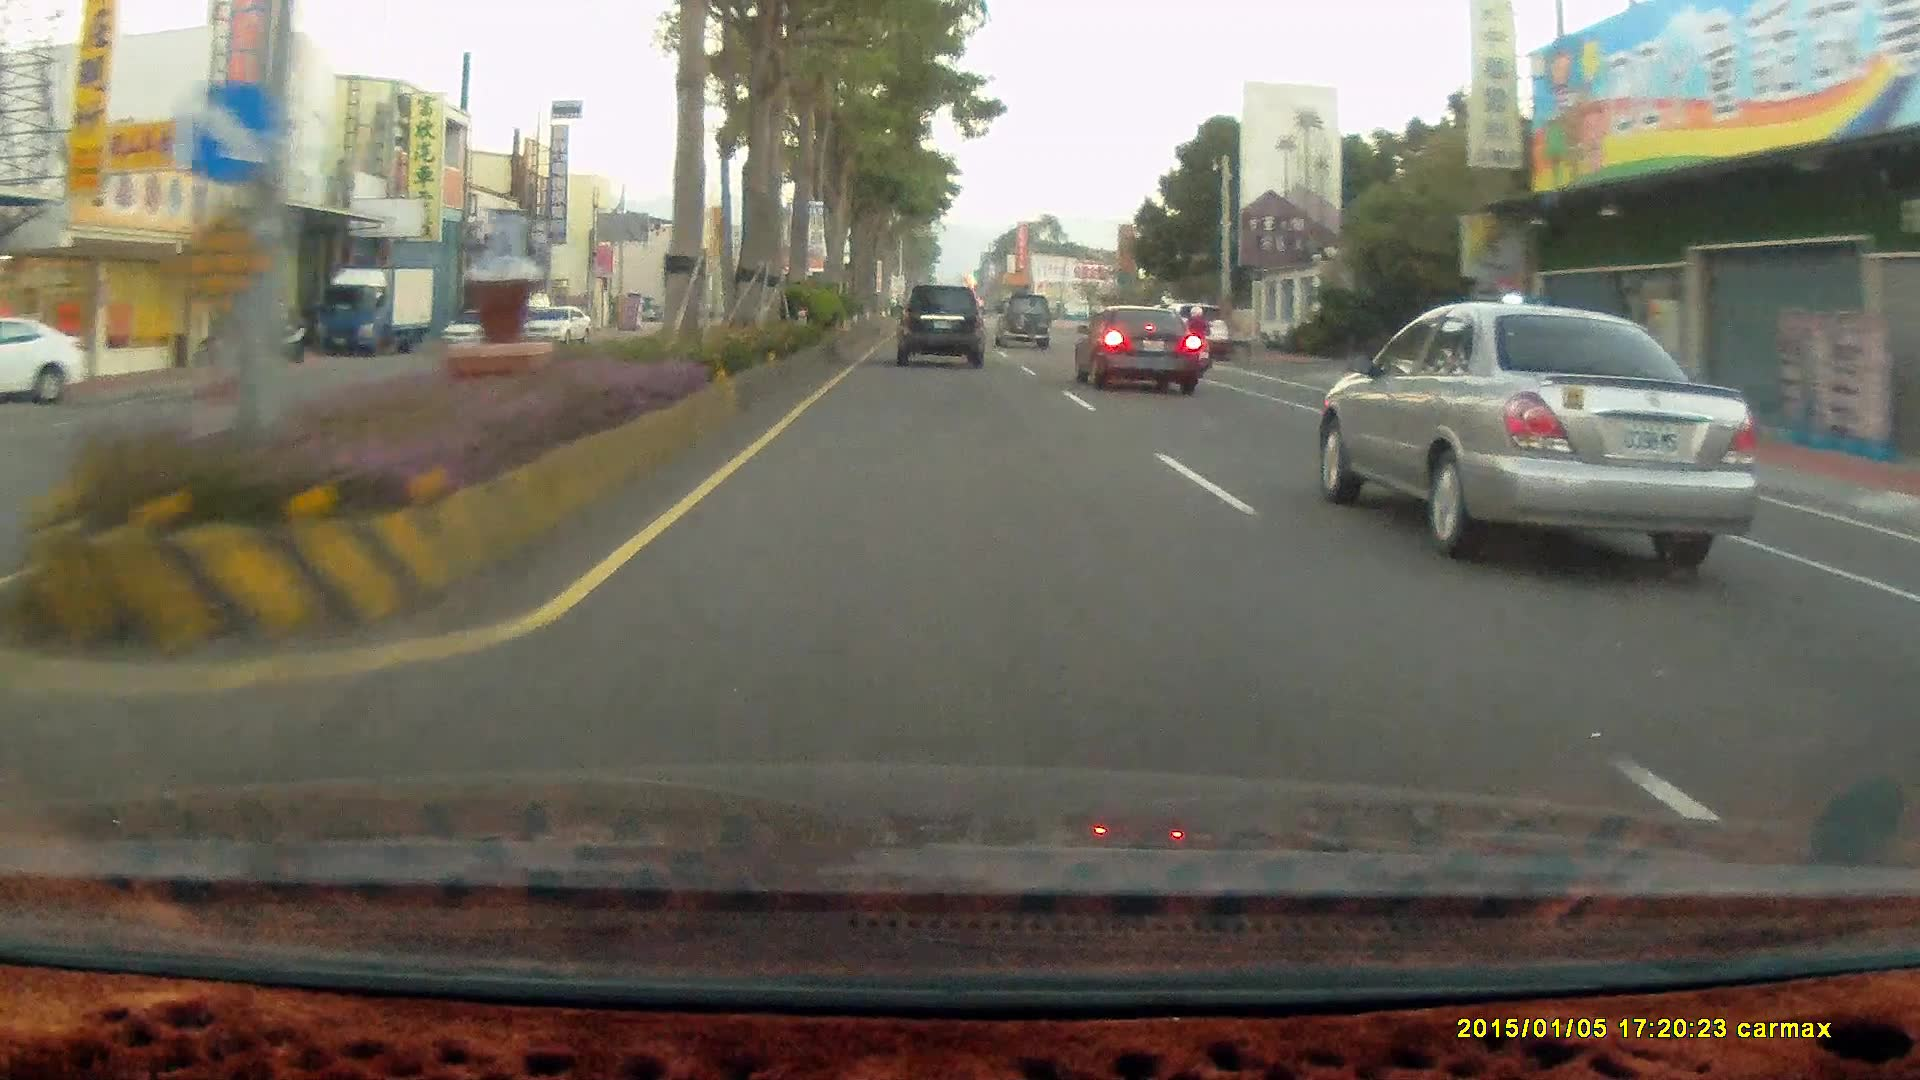rider: (1171, 302, 1216, 377)
vehicle: (1303, 298, 1752, 560), (1070, 302, 1200, 394), (1073, 306, 1201, 394), (314, 262, 436, 354), (316, 266, 438, 358), (1, 315, 94, 405), (893, 281, 988, 368), (895, 284, 981, 368), (441, 307, 528, 357), (438, 305, 524, 353), (992, 291, 1053, 351), (518, 305, 594, 349)
